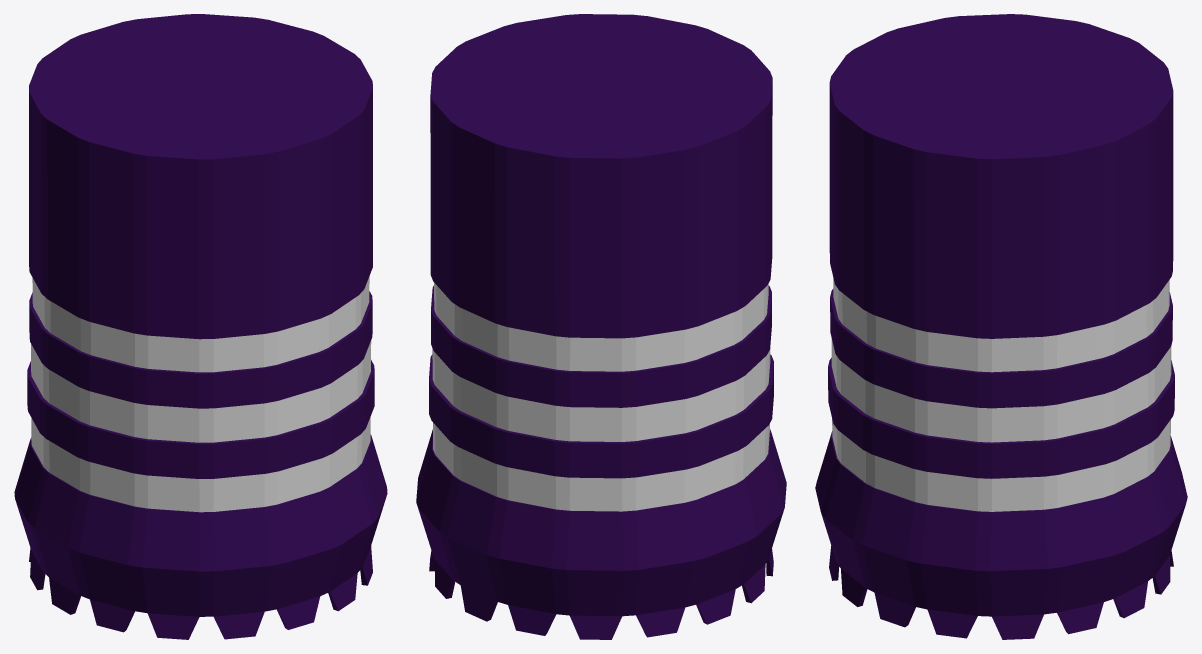
Rendered from ModuloConstruccionSup.fbx.
3 renders of one model, left to right at view 1: azimuth 30°, elevation 25°; view 2: azimuth 150°, elevation 25°; view 3: azimuth 270°, elevation 25°, orthographic.
Parts seen in each view (by area): view 1: Cylinder.001; view 2: Cylinder.001; view 3: Cylinder.001.
Boxes of the visible parts, bbox=[...] form: Cylinder.001: bbox=[14, 14, 387, 639]; Cylinder.001: bbox=[416, 14, 786, 639]; Cylinder.001: bbox=[815, 14, 1187, 639].
Bounding box in the file's own units: 216 × 307 × 216.
